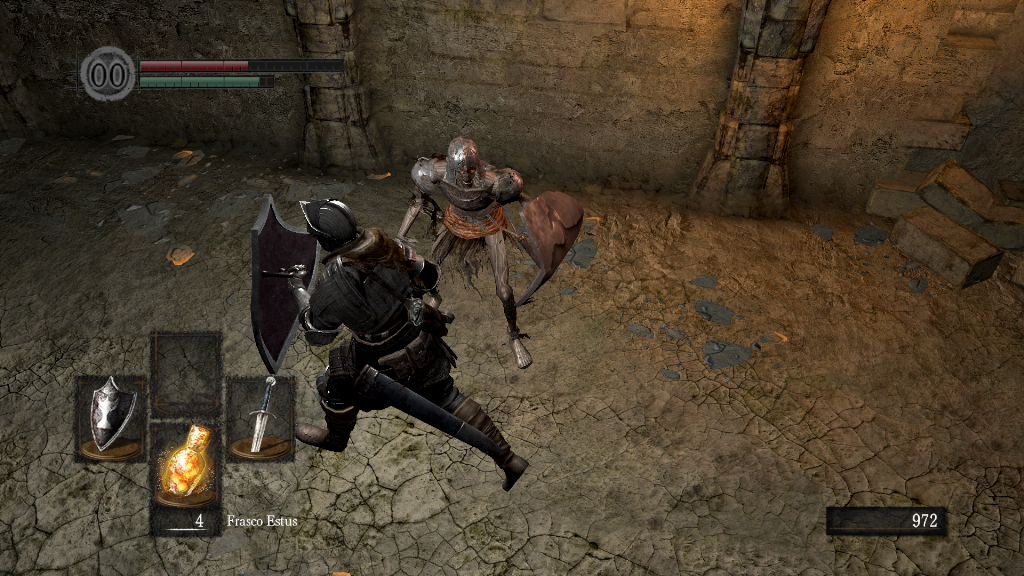health: (138, 58, 343, 71)
humanity: (80, 45, 136, 102)
player: (249, 192, 534, 492)
souls: (825, 506, 945, 536)
stamina: (138, 74, 274, 88)
undeadSoldier: (393, 137, 542, 369)
